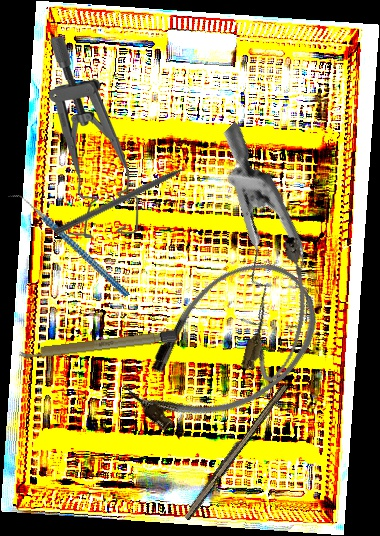Cannula: (106, 240, 340, 458), (238, 232, 326, 386)
Chopper: (8, 167, 130, 324)
Pusher: (53, 156, 207, 237)
Scalpel Handle: (180, 380, 290, 523), (16, 329, 179, 361)
Speculum: (138, 121, 373, 354), (47, 35, 140, 239)
